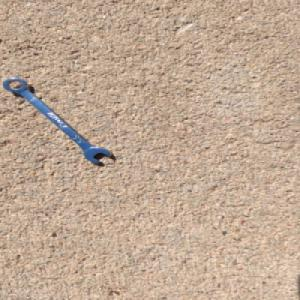Wrench: (2, 76, 112, 163)
